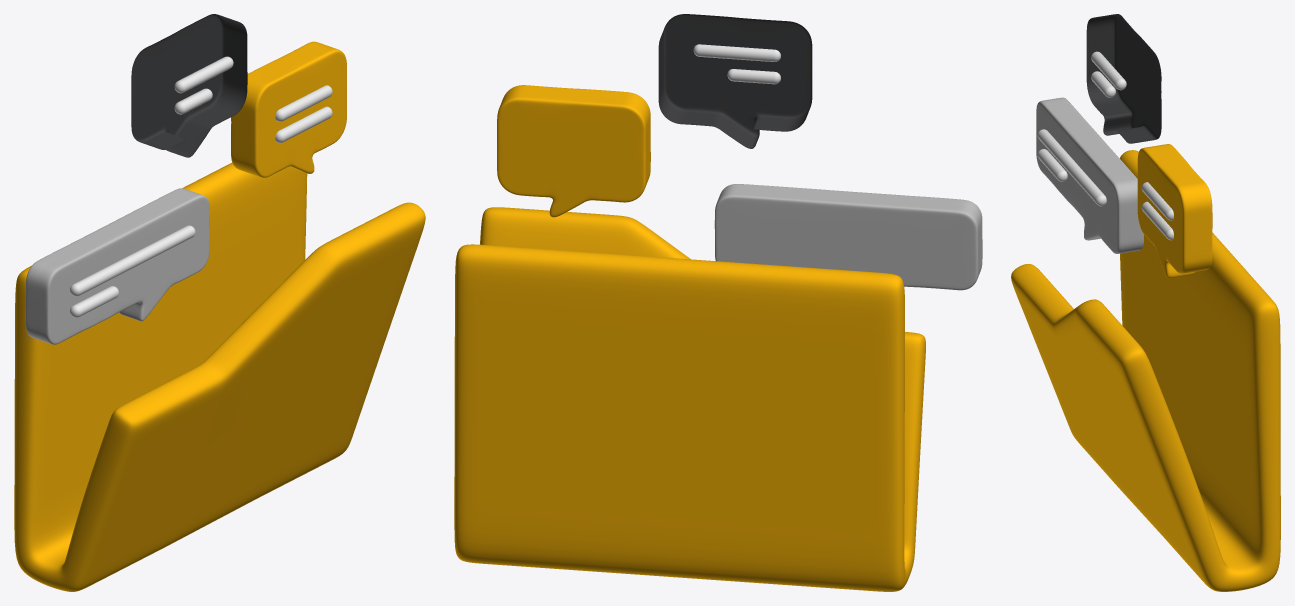
File: chat-history-animated-3d-icon-1295683094901.glb
3 renders of one model, left to right at view 1: azimuth 30°, elevation 25°; view 2: azimuth 150°, elevation 25°; view 3: azimuth 270°, elevation 25°, orthographic. The views are drawn at different scales.
Parts seen in each view (by area): view 1: Folder, Retopo_Plane.002, Retopo_Plane.001, Retopo_Plane.003, Cylinder.005, Cylinder.001, Cylinder.003; view 2: Folder, Retopo_Plane.002, Retopo_Plane.003, Retopo_Plane.001, Cylinder.003; view 3: Folder, Retopo_Plane.002, Retopo_Plane.003, Retopo_Plane.001, Cylinder.005, Cylinder.001, Cylinder.003.
Boxes of the visible parts, bbox=[...] form: Folder: bbox=[14, 162, 425, 591]; Retopo_Plane.002: bbox=[25, 188, 209, 344]; Retopo_Plane.001: bbox=[131, 14, 247, 157]; Retopo_Plane.003: bbox=[231, 41, 346, 177]; Cylinder.005: bbox=[69, 225, 195, 317]; Cylinder.001: bbox=[275, 85, 332, 143]; Cylinder.003: bbox=[174, 56, 233, 114]; Folder: bbox=[454, 207, 925, 591]; Retopo_Plane.002: bbox=[714, 184, 982, 290]; Retopo_Plane.003: bbox=[497, 85, 650, 217]; Retopo_Plane.001: bbox=[658, 14, 812, 148]; Cylinder.003: bbox=[693, 44, 780, 84]; Folder: bbox=[1011, 150, 1280, 591]; Retopo_Plane.002: bbox=[1036, 97, 1143, 253]; Retopo_Plane.003: bbox=[1137, 144, 1212, 278]; Retopo_Plane.001: bbox=[1086, 14, 1161, 143]; Cylinder.005: bbox=[1037, 129, 1106, 206]; Cylinder.001: bbox=[1141, 182, 1173, 240]; Cylinder.003: bbox=[1091, 51, 1126, 97].
Size of the model in its own units: 1.36 by 1.52 by 0.7931.
